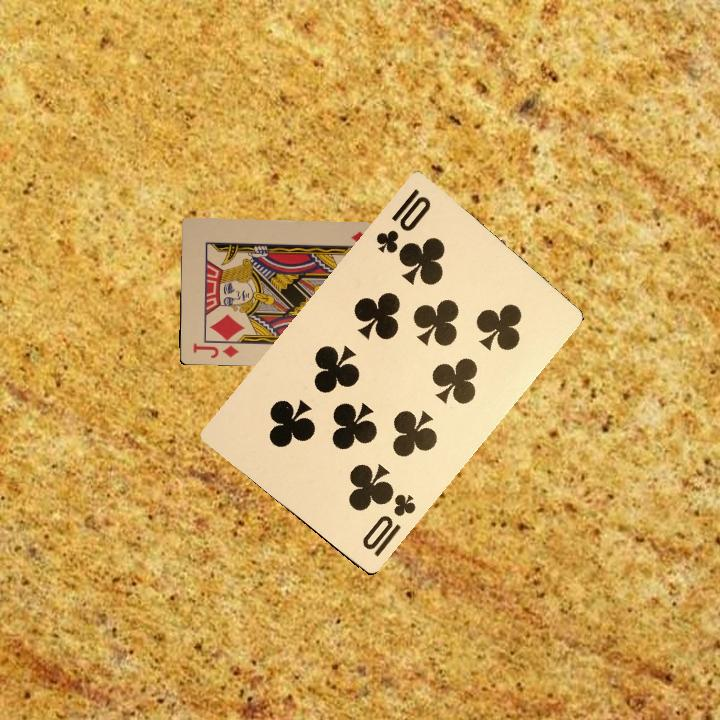10c: (371, 184, 434, 256), (358, 489, 419, 560)
Jd: (189, 339, 240, 361)
